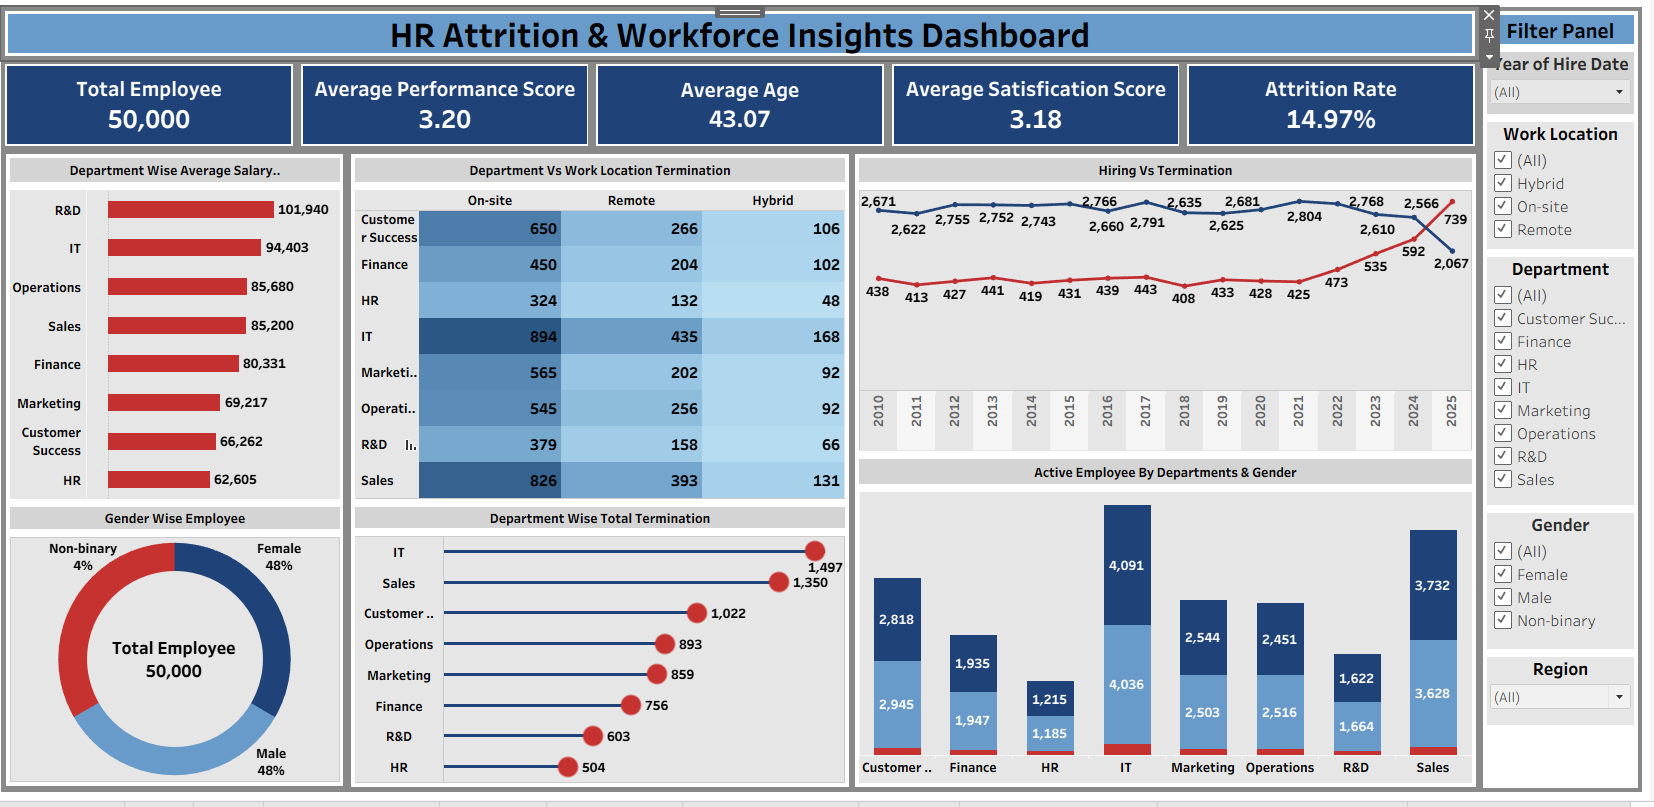

This screenshot's page, from the dashboard's own definition file:
{"tool":"tableau","page":{"name":"HR DASHBOARD","canvas":[1657,801],"ordinal":0},"visuals":[{"type":"title","box":[8,8,1478,53]},{"type":"text","box":[1490,12,155,37]},{"type":"filter","title":"yearly trend","param":"[federated.1be4y47160r8pp15p41110nsixtw].[yr:HireDate:ok]","box":[1490,49,155,70]},{"type":"worksheet","title":"total emp","mark":"Automatic","box":[8,61,295.6,90]},{"type":"worksheet","title":"avg performance score","mark":"Automatic","box":[303.6,61,295.6,90]},{"type":"worksheet","title":"avg age","mark":"Automatic","box":[599.2,61,295.6,90]},{"type":"worksheet","title":"avg satisfication score","mark":"Automatic","box":[894.8,61,295.6,90]},{"type":"worksheet","title":"attrition rate","mark":"Automatic","box":[1190.4,61,295.6,90]},{"type":"filter","title":"Department × Work Location","param":"[federated.1be4y47160r8pp15p41110nsixtw].[none:WorkLocation:nk]","box":[1490,119,155,135]},{"type":"text","box":[13.2,154.8,337.5,32]},{"type":"text","box":[357.8,154.8,498.1,32]},{"type":"text","box":[862.1,154.8,621.1,32]},{"type":"worksheet","title":"department avg salary","mark":"Bar","rows":["Department"],"cols":["BaseSalary"],"box":[13.2,186.8,337.5,317]},{"type":"worksheet","title":"Department × Work Location","mark":"Square","rows":["Department"],"cols":["WorkLocation"],"box":[357.8,186.8,498.1,317]},{"type":"worksheet","title":"yearly trend","mark":"Line","rows":["Calculation_1234549255748173827","Calculation_1213438632608559104"],"cols":["HireDate"],"box":[862.1,186.8,621.1,269]},{"type":"filter","title":"Department × Work Location","param":"[federated.1be4y47160r8pp15p41110nsixtw].[none:Department:nk]","box":[1490,254,155,256]},{"type":"text","box":[862.1,455.8,621.1,33]},{"type":"worksheet","title":"Active employee by gender and department","mark":"Bar","rows":["Calculation_1213438632608559104"],"cols":["Department"],"box":[862.1,488.8,621.1,299.2]},{"type":"text","box":[13.2,503.8,337.5,30]},{"type":"text","box":[357.8,503.8,498.1,29]},{"type":"filter","title":"gender wise emp","param":"[federated.1be4y47160r8pp15p41110nsixtw].[none:Gender:nk]","box":[1490,510,155,144]},{"type":"worksheet","title":"department wise attrition","mark":"Bar","rows":["Department"],"cols":["Calculation_1234549255748173827","Calculation_1234549255748173827"],"box":[357.8,532.8,498.1,255.2]},{"type":"worksheet","title":"gender wise emp","mark":"Pie","rows":["Calculation_259801411364061188","Calculation_259801411364061188"],"box":[13.2,533.8,337.5,253.2]},{"type":"filter","title":"department avg salary","param":"[federated.1be4y47160r8pp15p41110nsixtw].[none:Region:nk]","box":[1490,654,155,76]}]}

Visuals, with their boxes in screenshot pixels (x1, y1, x2, y2), scaled from the page's 1657x801 canvas onto the 1654x807 screenshot:
title: region(8, 8, 1483, 61)
text: region(1487, 12, 1642, 49)
"yearly trend" filter: region(1487, 49, 1642, 120)
"total emp" worksheet: region(8, 61, 303, 152)
"avg performance score" worksheet: region(303, 61, 598, 152)
"avg age" worksheet: region(598, 61, 893, 152)
"avg satisfication score" worksheet: region(893, 61, 1188, 152)
"attrition rate" worksheet: region(1188, 61, 1483, 152)
"Department × Work Location" filter: region(1487, 120, 1642, 256)
text: region(13, 156, 350, 188)
text: region(357, 156, 854, 188)
text: region(861, 156, 1481, 188)
"department avg salary" worksheet (Bar marks): region(13, 188, 350, 508)
"Department × Work Location" worksheet (Square marks): region(357, 188, 854, 508)
"yearly trend" worksheet (Line marks): region(861, 188, 1481, 459)
"Department × Work Location" filter: region(1487, 256, 1642, 514)
text: region(861, 459, 1481, 492)
"Active employee by gender and department" worksheet (Bar marks): region(861, 492, 1481, 794)
text: region(13, 508, 350, 538)
text: region(357, 508, 854, 537)
"gender wise emp" filter: region(1487, 514, 1642, 659)
"department wise attrition" worksheet (Bar marks): region(357, 537, 854, 794)
"gender wise emp" worksheet (Pie marks): region(13, 538, 350, 793)
"department avg salary" filter: region(1487, 659, 1642, 735)
